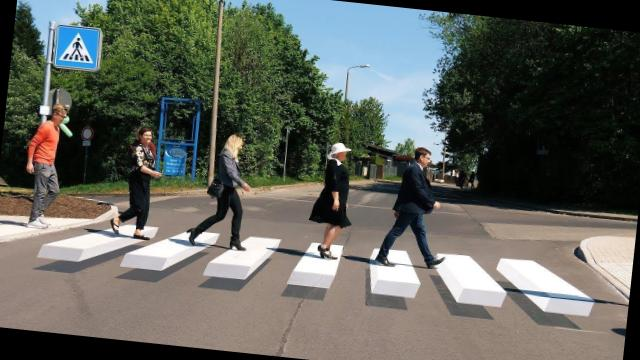crosswalk-sign: (53, 24, 104, 74)
